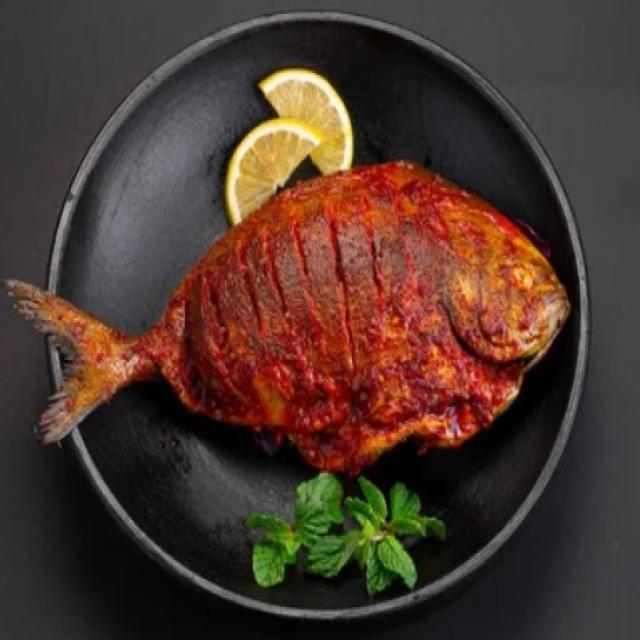FISH FRY: (8, 162, 569, 473)
